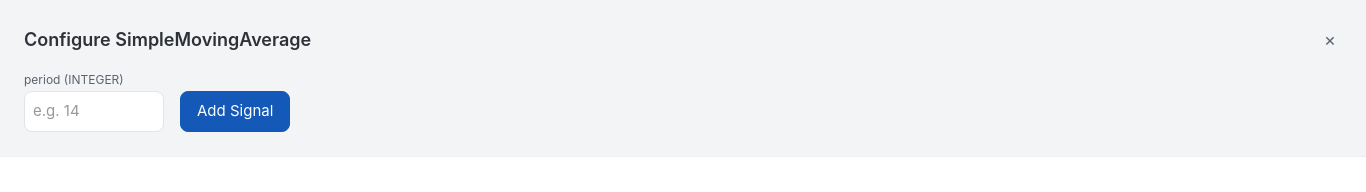
Test: SignalConfigPanel › shows error for invalid integer value
Step 1. Type "3.5" into the field named "period" → (94, 111), box 24,91 -> 164,132
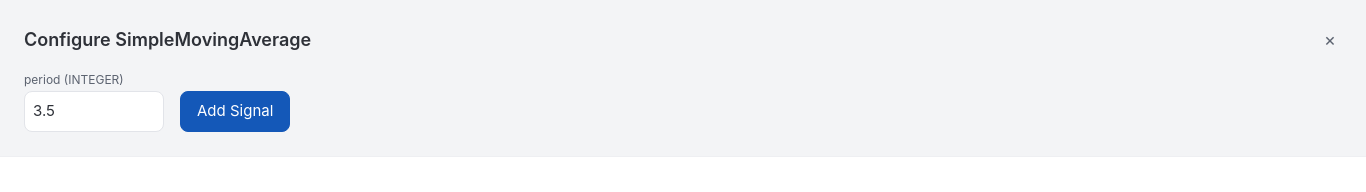
Step 2. Click the button "Add Signal" → (235, 111), box 180,91 -> 290,132
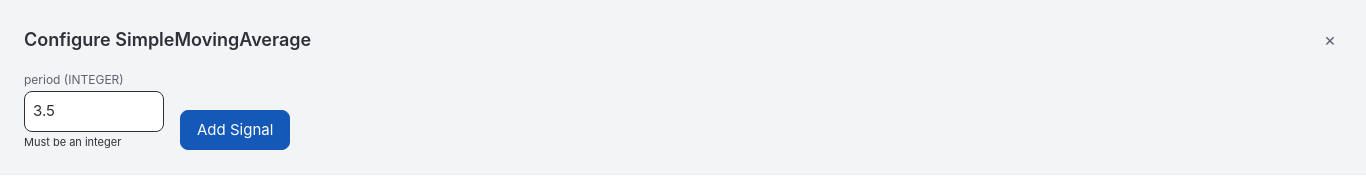
Now the message reads "Must be an integer", box 24,134 -> 121,148
